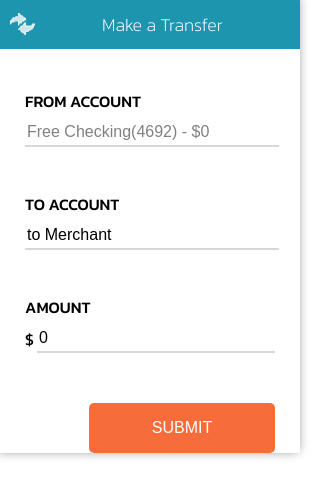
Test: TransactionForm.vue › displays error message when accountTo is valid, but ammount isn't
Click the button with class "submit-button": [182, 428] box [89, 403, 275, 453]
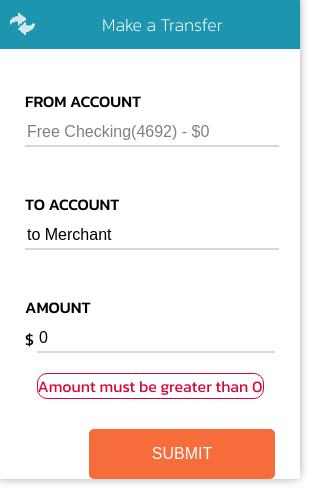
Result: the text "Amount must be greater than 0" is shown at [36, 373, 264, 399]
